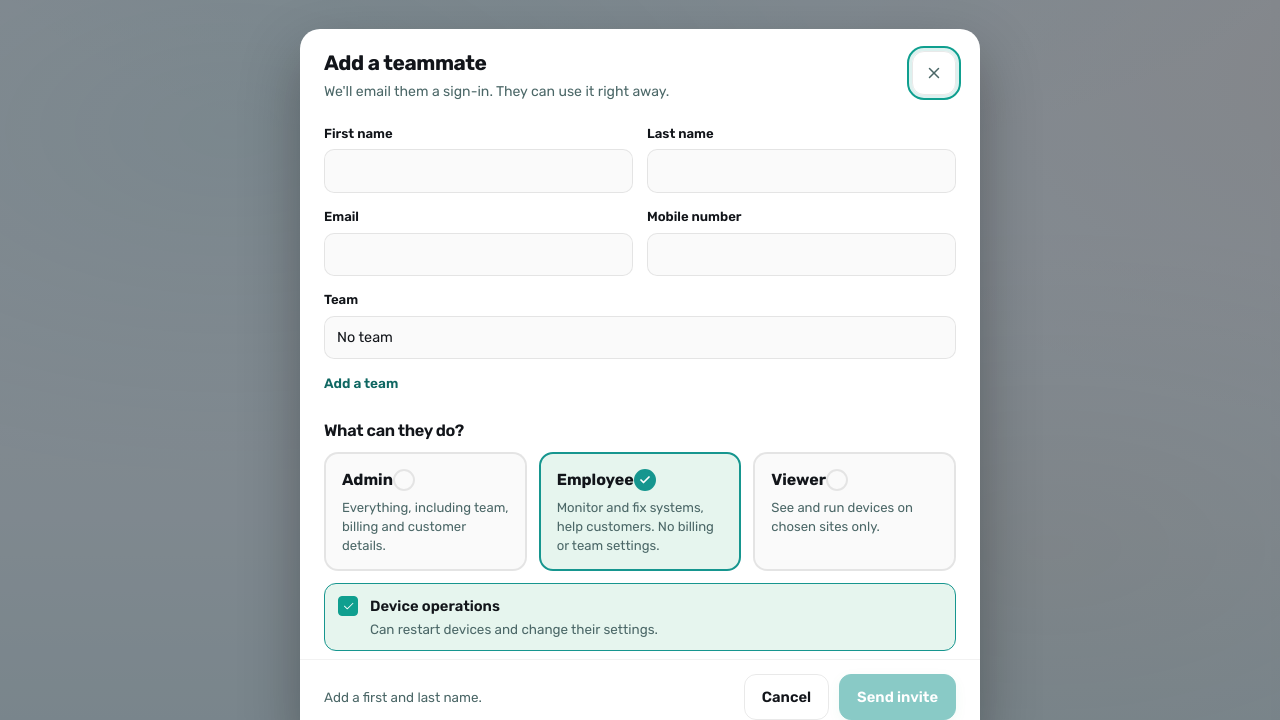
Test: AddTeammateDialog › warns when making an admin
Click the radio button labelled "Admin". click: (425, 511)
box: x1=324 y1=452 x2=527 y2=571
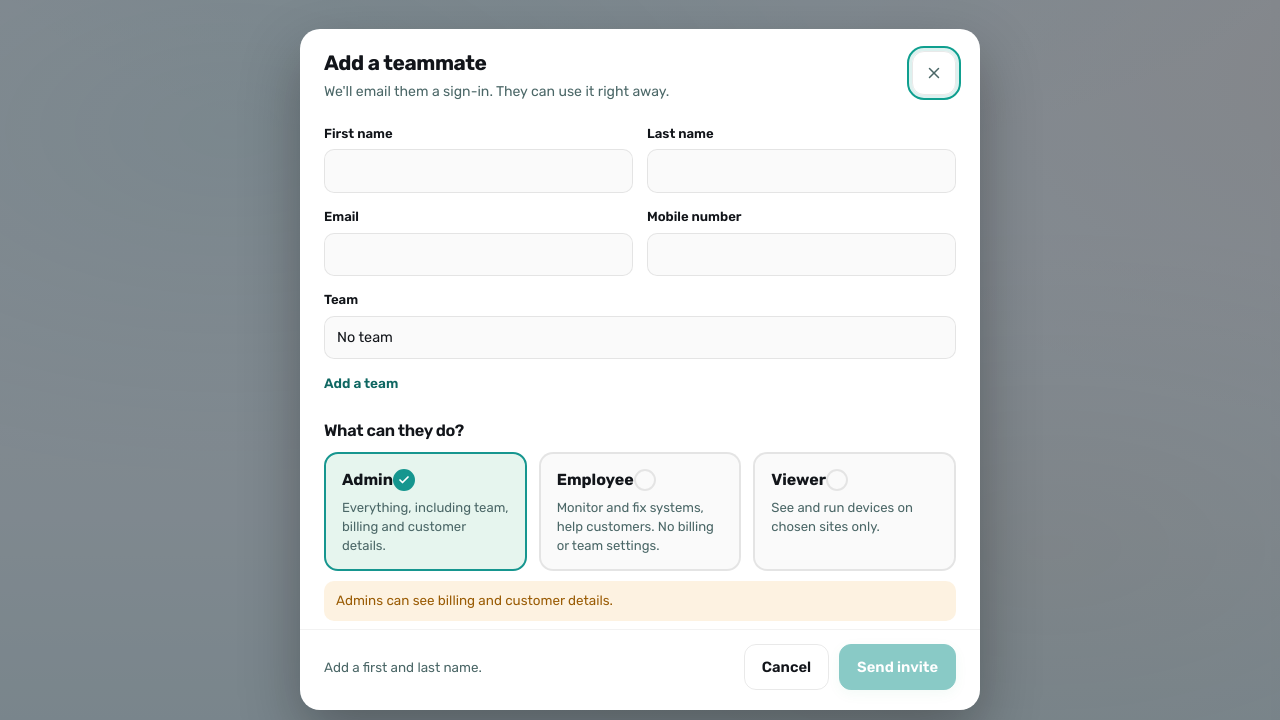
Expected: the text "Admins can see billing and customer details." is shown, x1=324 y1=581 x2=956 y2=621
